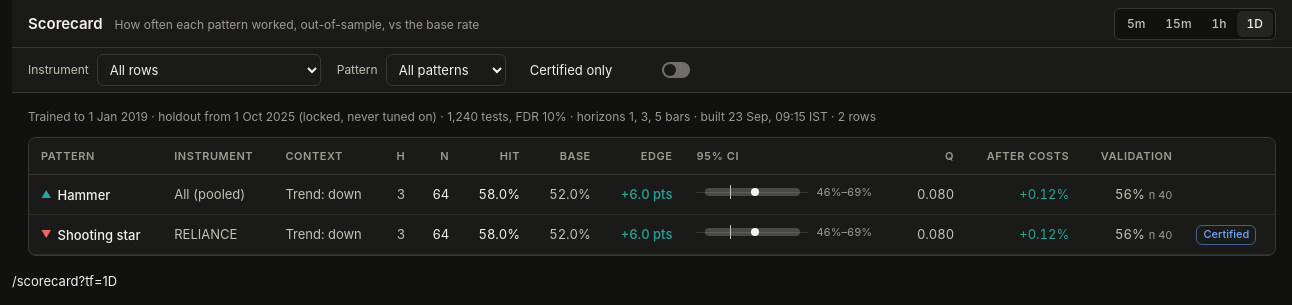
Test: scorecard page › passes the filters to the API through the URL
The width and height of the screenshot is (1292, 305).
Expected: the table named "Scorecard" is shown, [29,138,1275,254]
What coordinates should you click on to do the following:
click the switch labelled "Certified only"
I would click on:
 (610, 70)
Its box is [522,54,698,86].
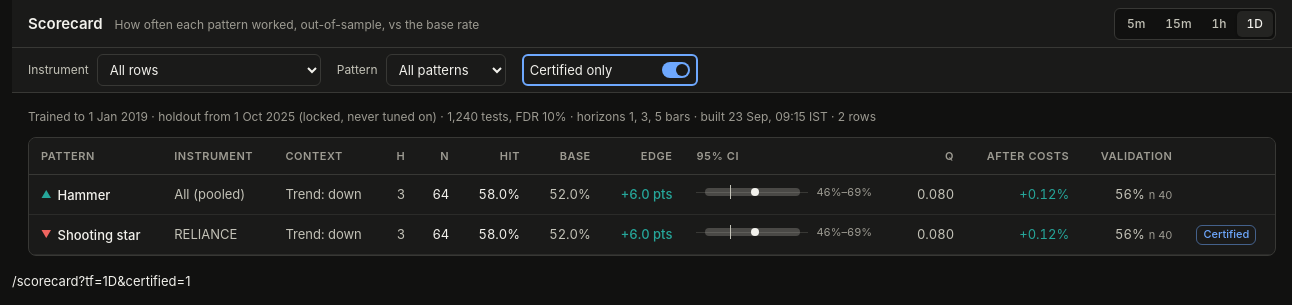
Expected: the text with test id "location" reads "/scorecard?tf=1D&certified=1", [12,272,190,288]
